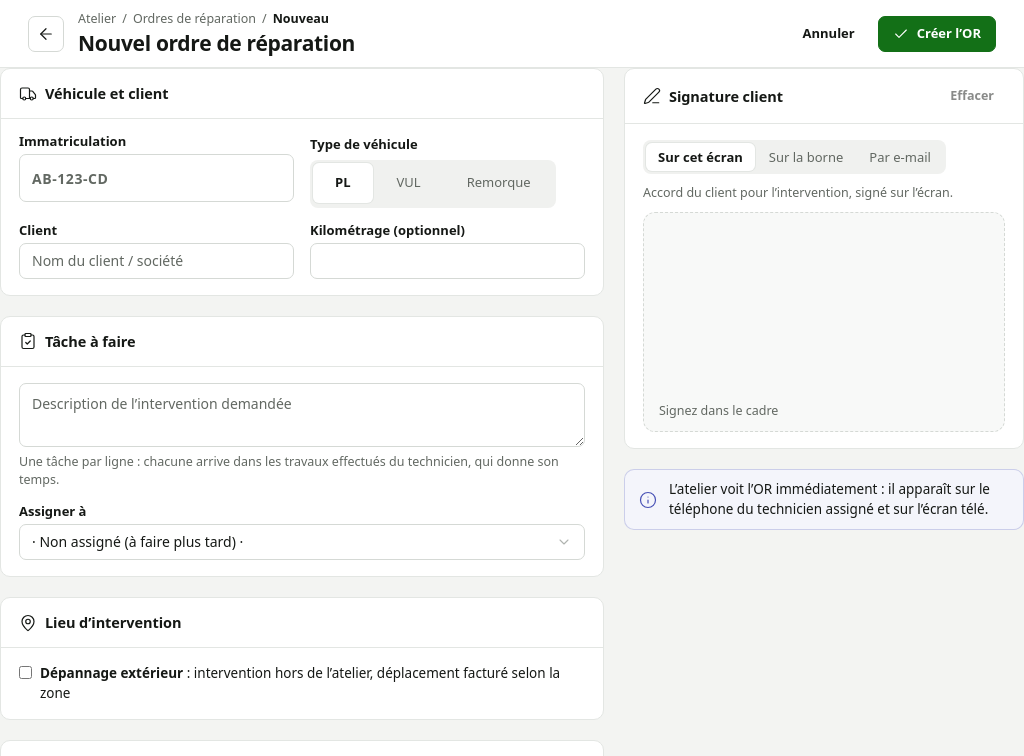
Test case: nouvel OR › crée l’OR puis ouvre sa fiche
Type "gh512rt" into the dropdown labelled "Immatriculation".
click(156, 178); type("gh512rt")  # box [19,154,294,202]
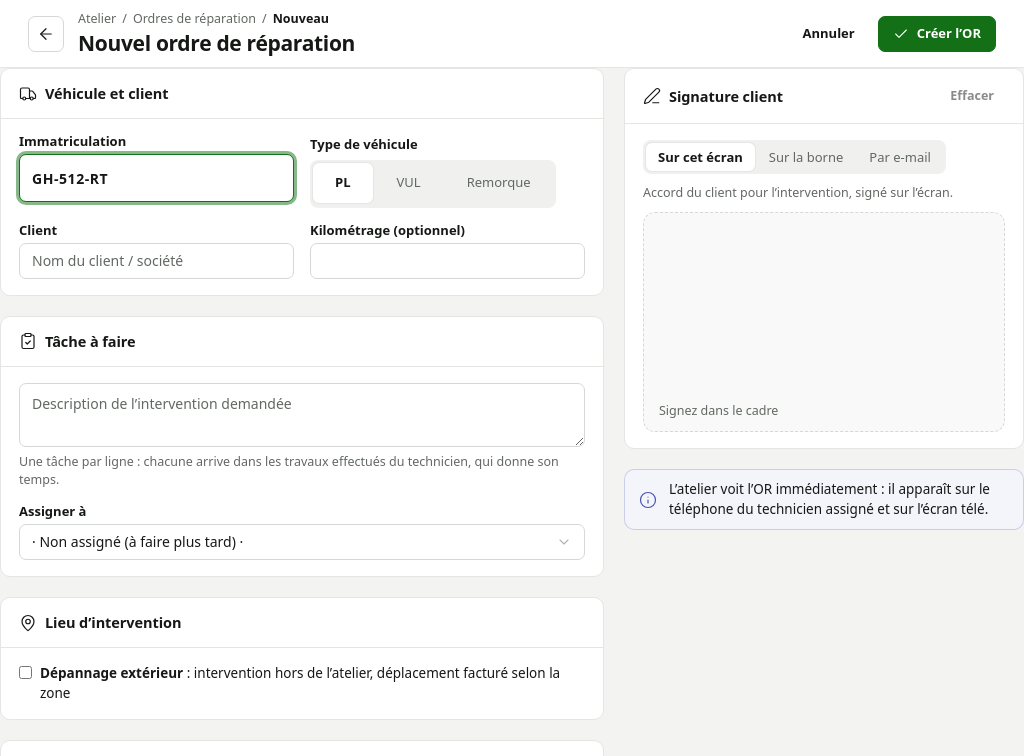
expect the dropdown labelled "Immatriculation" holds "GH-512-RT": met, box [19,154,294,202]
Type "Transports Martin" into the dropdown labelled "Client".
click(156, 261); type("Transports Martin")  # box [19,243,294,279]
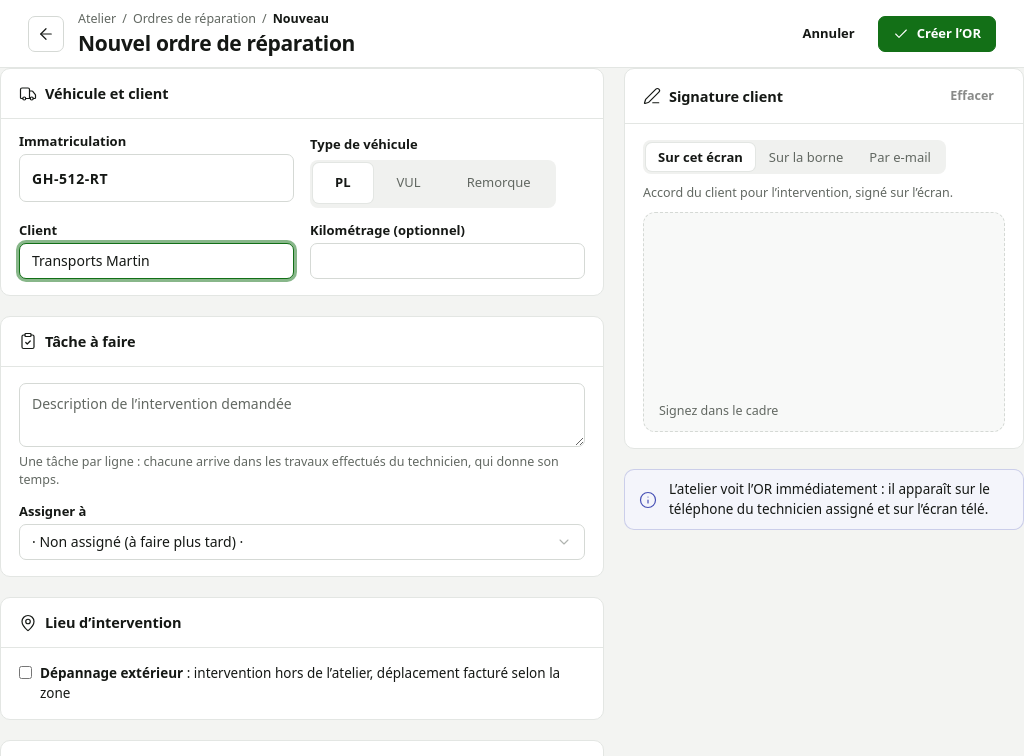
Type "Freins" into the text box named "Tâche à faire".
click(302, 415); type("Freins")  # box [19,383,585,447]
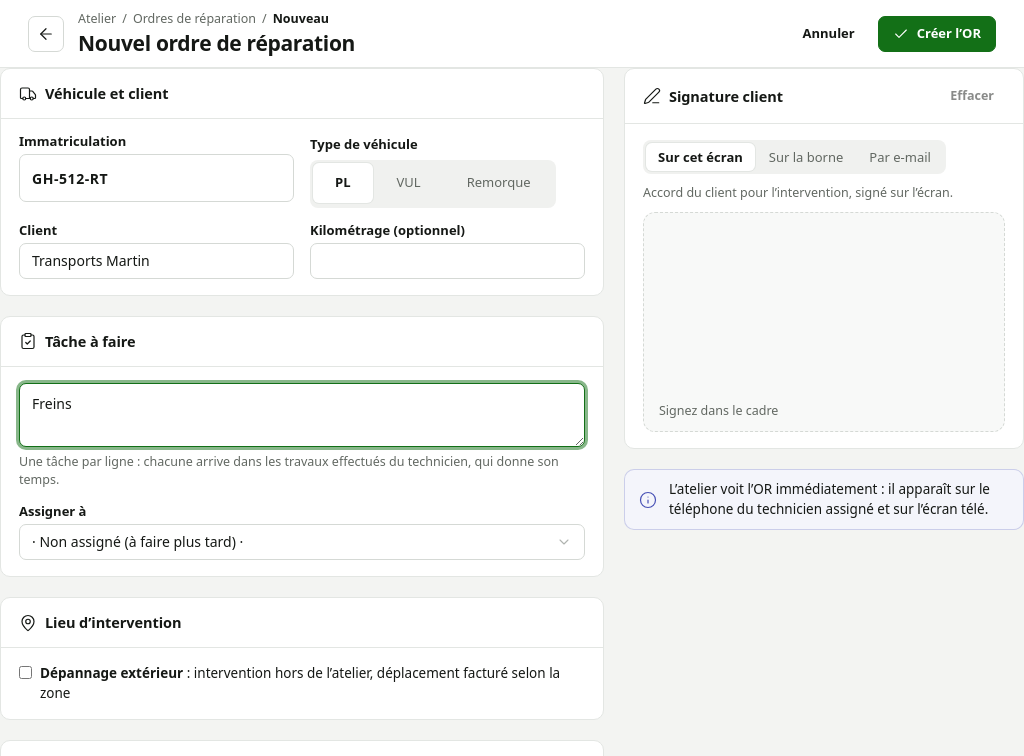
Click the button "Créer l’OR".
click(937, 34)  # box [878,16,996,52]
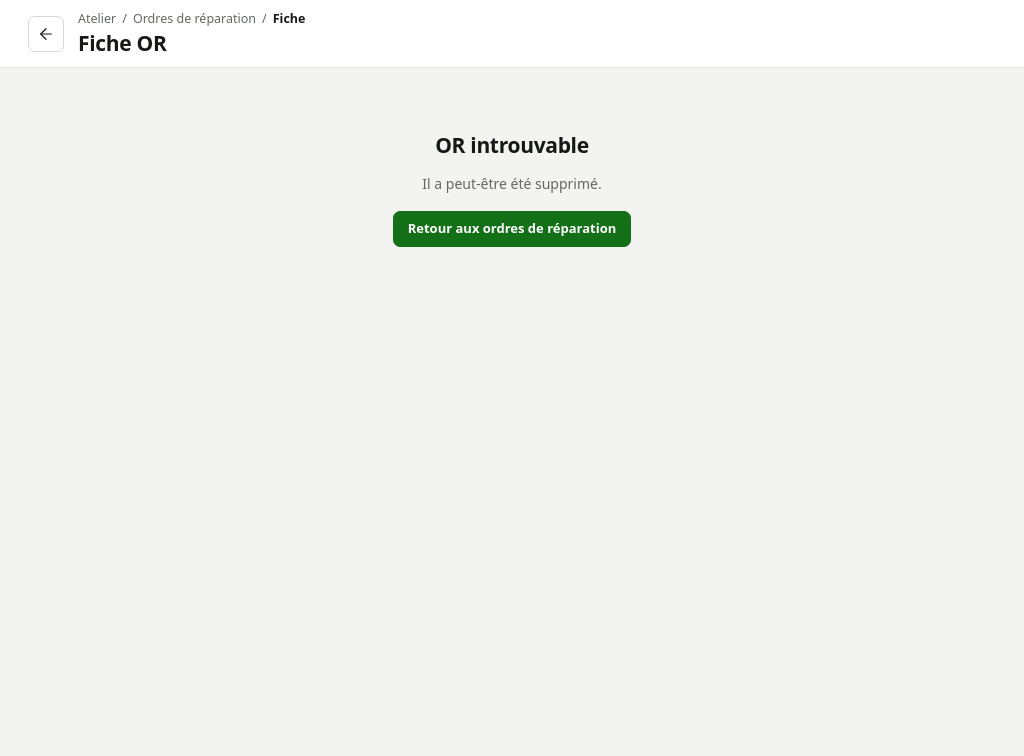
expect the heading "OR introuvable" is shown: met, box [435,132,589,158]
